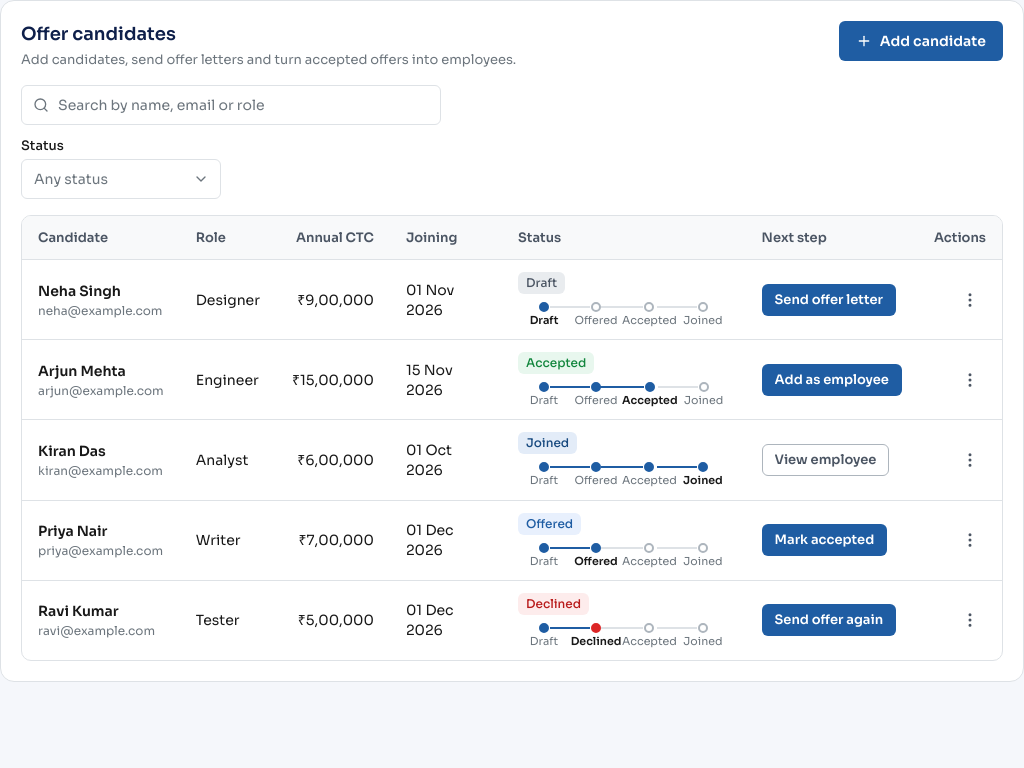
it: delete › explains in the dialog when issued letters block deletion and links to them
Expected: the text "Ravi Kumar" is shown, [38,602,119,620]
Click the button named "Actions for Ravi Kumar". click: (970, 620)
box: [954,604,986,636]
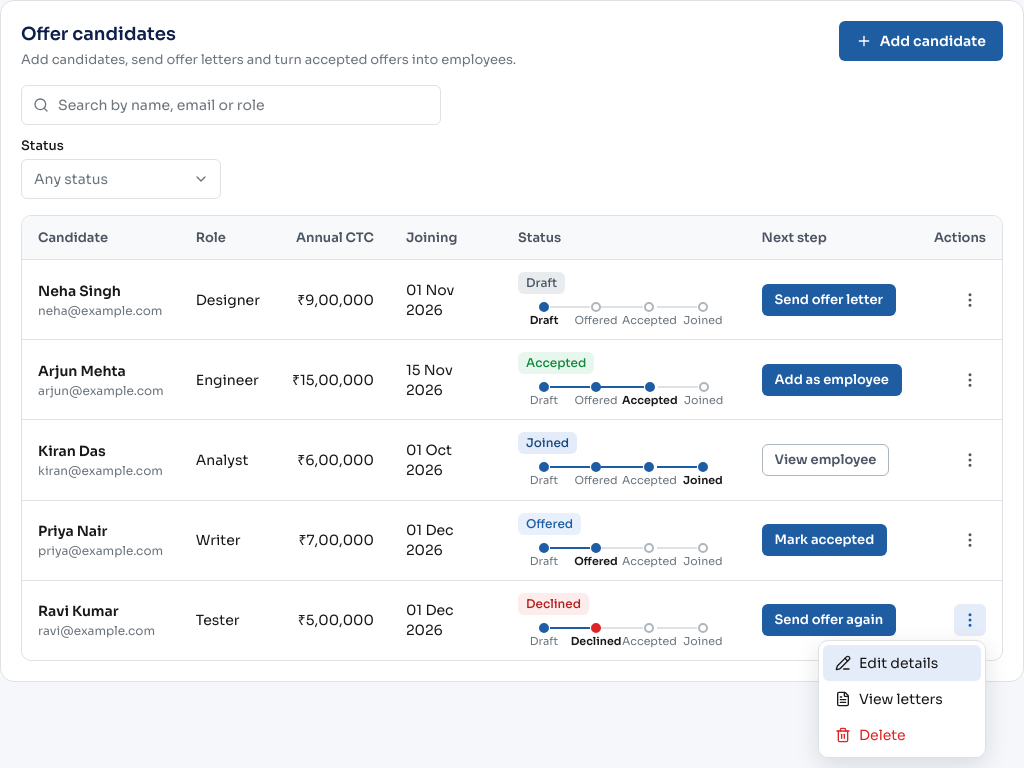
Click the menu item "Delete". click: (902, 735)
box: [823,717,981,753]
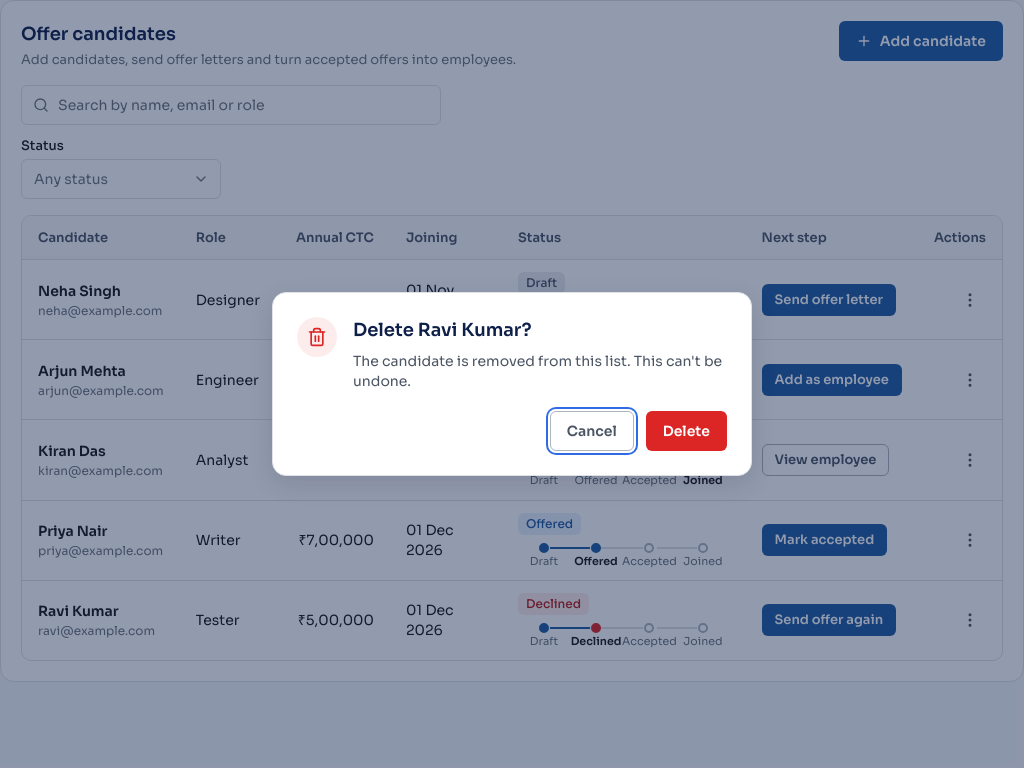
Click the button "Delete". click: (686, 431)
box: [646,411,727,451]
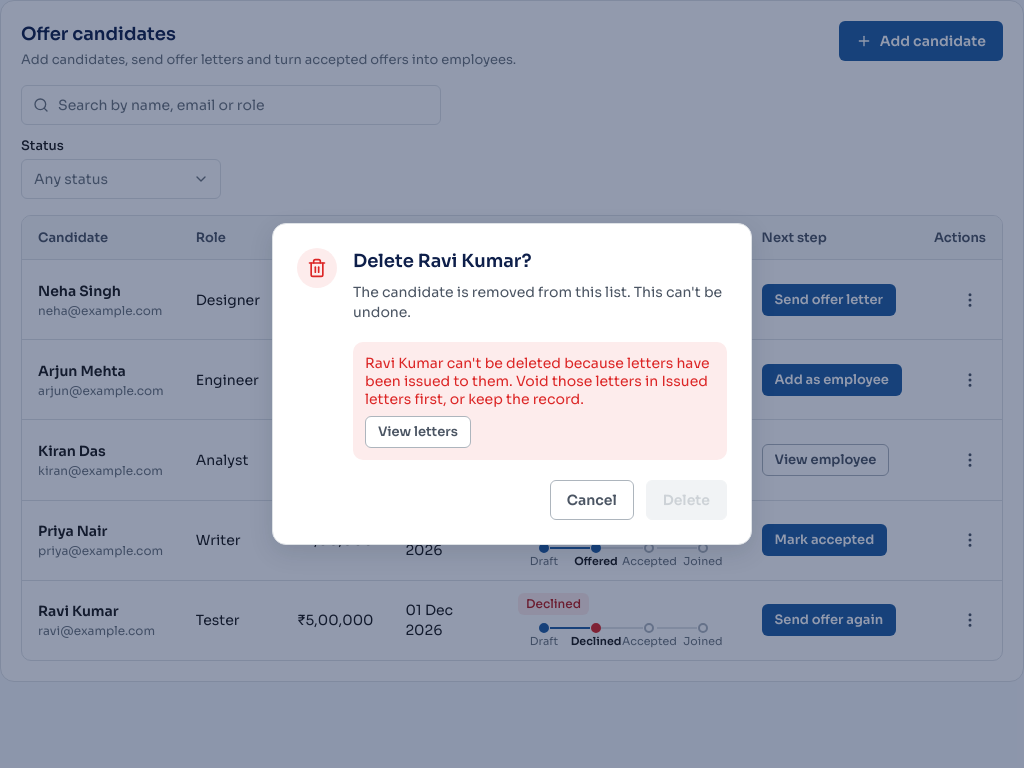
Result: the message shows "Ravi Kumar can't be deleted because letters have been issued to them. Void those letters in Issued letters first, or keep the record." at [365,354,710,408]
Result: the button "Delete" is disabled at [646,480,727,520]
Click the button "View letters". click: (418, 432)
box: [365,416,471,448]
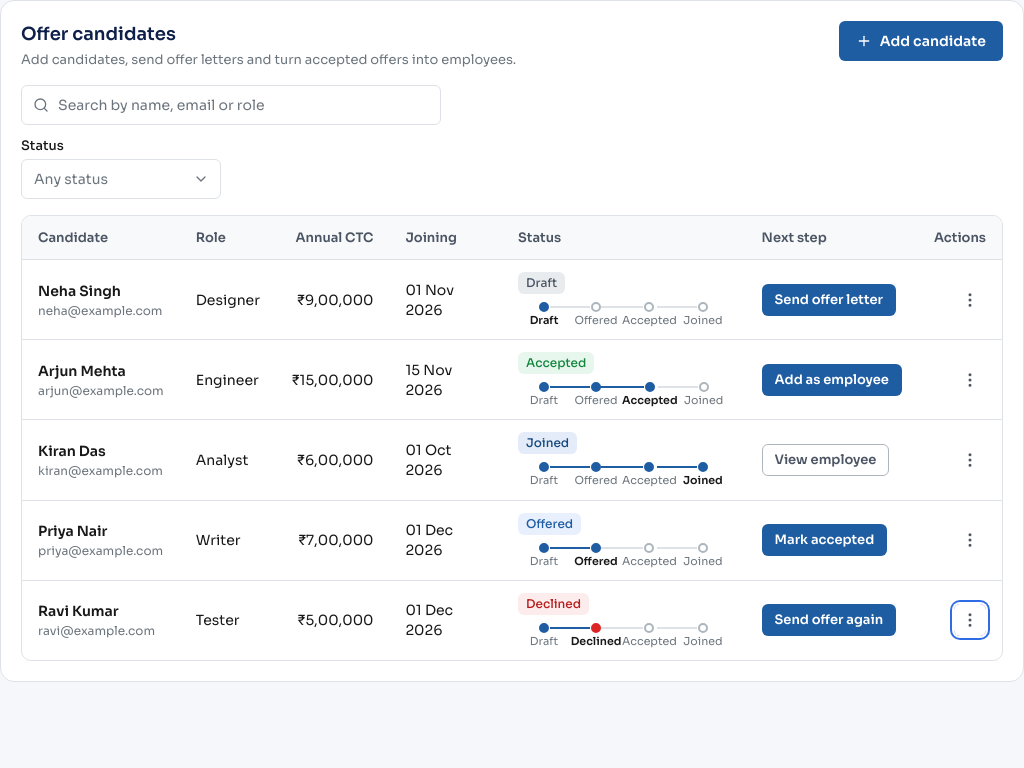
Result: the dialog is gone
